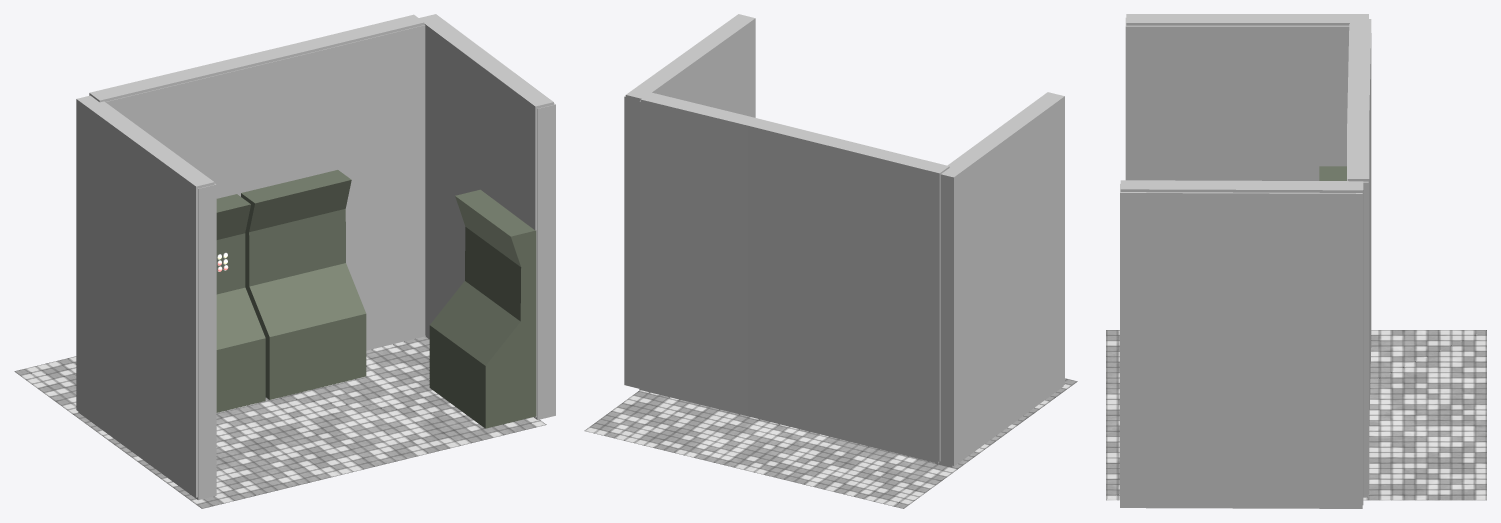
File: Reactor_room_v2.glb
The picture shows the model from 3 angles, left to right: view 1: azimuth 30°, elevation 25°; view 2: azimuth 150°, elevation 25°; view 3: azimuth 270°, elevation 25°; orthographic projection. The views are drawn at different scales.
Visible parts, largest first — view 1: Cube.002, Cube.001, Plane, Cube.003, Cube.005, Cube; view 2: Cube.002, Plane, Cube.001; view 3: Cube.001, Plane, Cube.002.
Boxes of the visible parts, bbox=[...] form: Cube.002: bbox=[76, 14, 553, 497]; Cube.001: bbox=[78, 24, 555, 499]; Plane: bbox=[14, 336, 546, 508]; Cube.003: bbox=[241, 170, 366, 399]; Cube.005: bbox=[429, 189, 536, 428]; Cube: bbox=[216, 194, 265, 412]; Cube.002: bbox=[625, 14, 1064, 465]; Plane: bbox=[584, 378, 1077, 508]; Cube.001: bbox=[624, 96, 1063, 467]; Cube.001: bbox=[1120, 18, 1368, 508]; Plane: bbox=[1106, 330, 1486, 500]; Cube.002: bbox=[1120, 14, 1371, 504].
Size of the model in its own units: 6.99 by 5.82 by 6.28.
7 materials, 1 textured.
